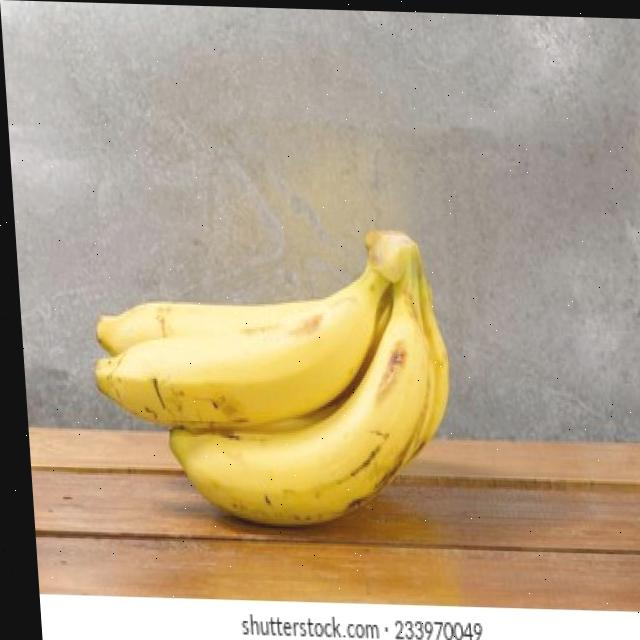banana: (81, 213, 463, 540)
